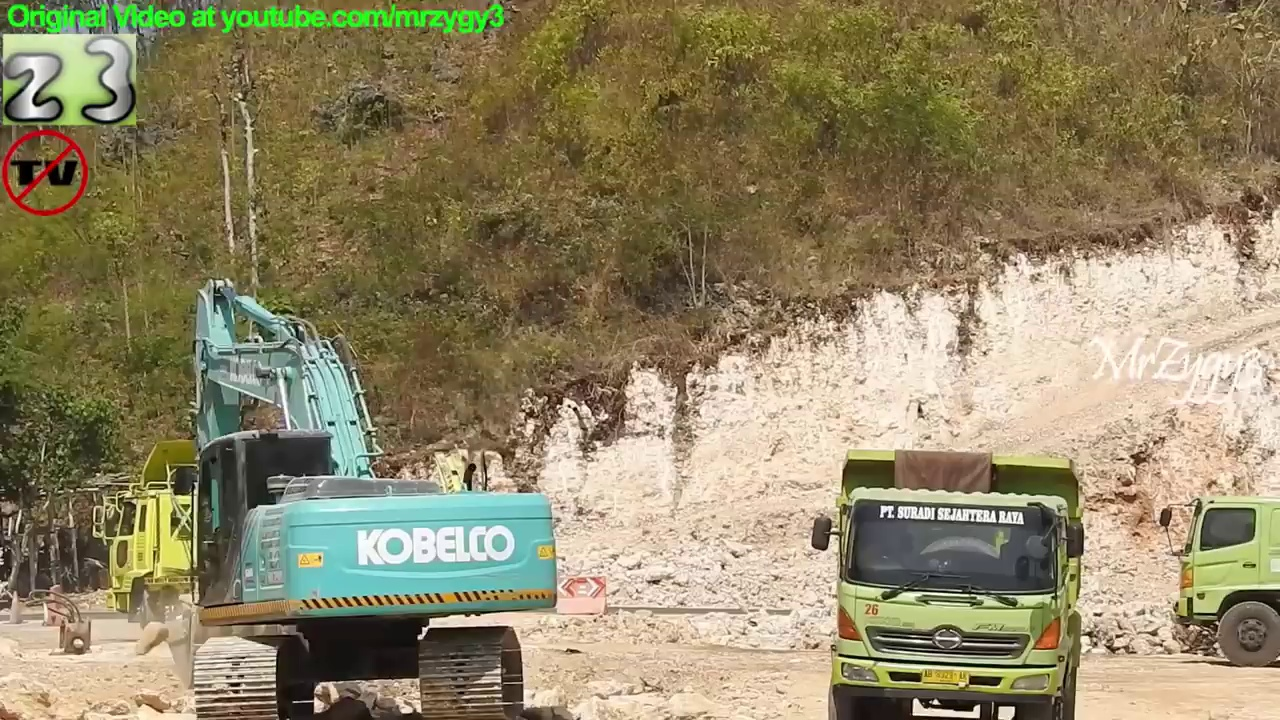excavator: (178, 274, 567, 720)
truck: (92, 437, 505, 634), (807, 444, 1090, 719), (1157, 490, 1280, 672)
